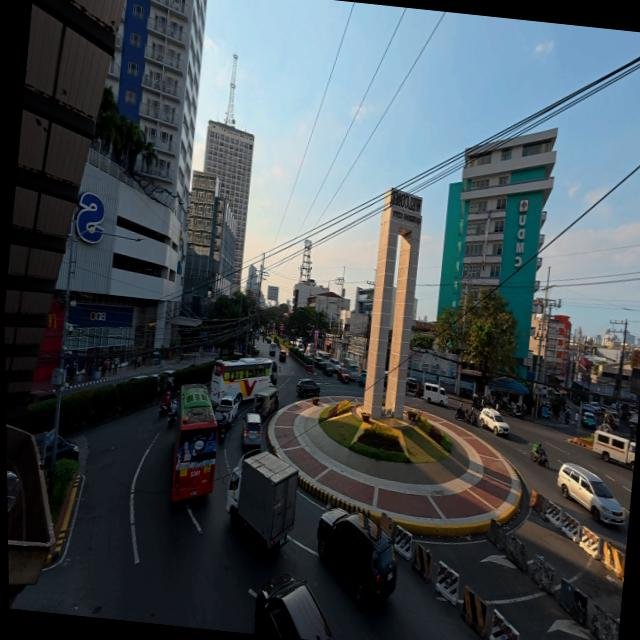Jeepneys: (253, 386, 278, 418)
bus: (171, 384, 217, 501), (210, 358, 277, 404)
car: (317, 509, 396, 605), (254, 574, 332, 639), (557, 463, 624, 525), (478, 408, 508, 436), (241, 413, 261, 449), (56, 436, 78, 460), (295, 379, 319, 397), (28, 390, 54, 403), (579, 411, 595, 428), (603, 411, 618, 428), (336, 367, 350, 383), (320, 362, 334, 376), (406, 377, 418, 392), (357, 370, 366, 386), (588, 402, 600, 411), (313, 355, 321, 368), (303, 354, 312, 365), (277, 350, 285, 362), (320, 353, 329, 362), (252, 346, 260, 356), (383, 373, 387, 389), (265, 336, 270, 344)
motorcycle: (530, 444, 548, 468), (471, 394, 483, 409), (511, 404, 523, 418), (454, 404, 464, 420), (218, 421, 225, 442), (468, 410, 477, 426), (158, 404, 169, 417), (167, 411, 175, 427), (413, 384, 421, 398), (563, 411, 569, 424)
trucks: (225, 453, 297, 553), (214, 396, 238, 427), (342, 359, 357, 380)
vans: (593, 430, 635, 471), (423, 383, 447, 405), (328, 358, 339, 371), (268, 343, 275, 355)
